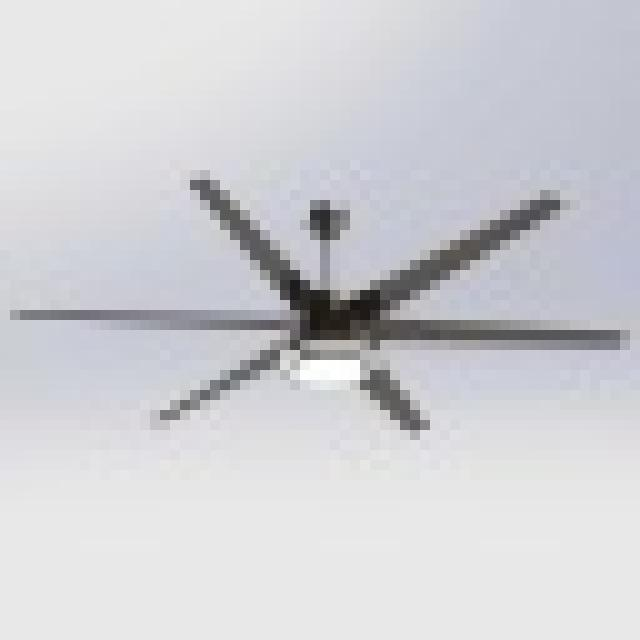Bulb: (0, 170, 640, 420)
